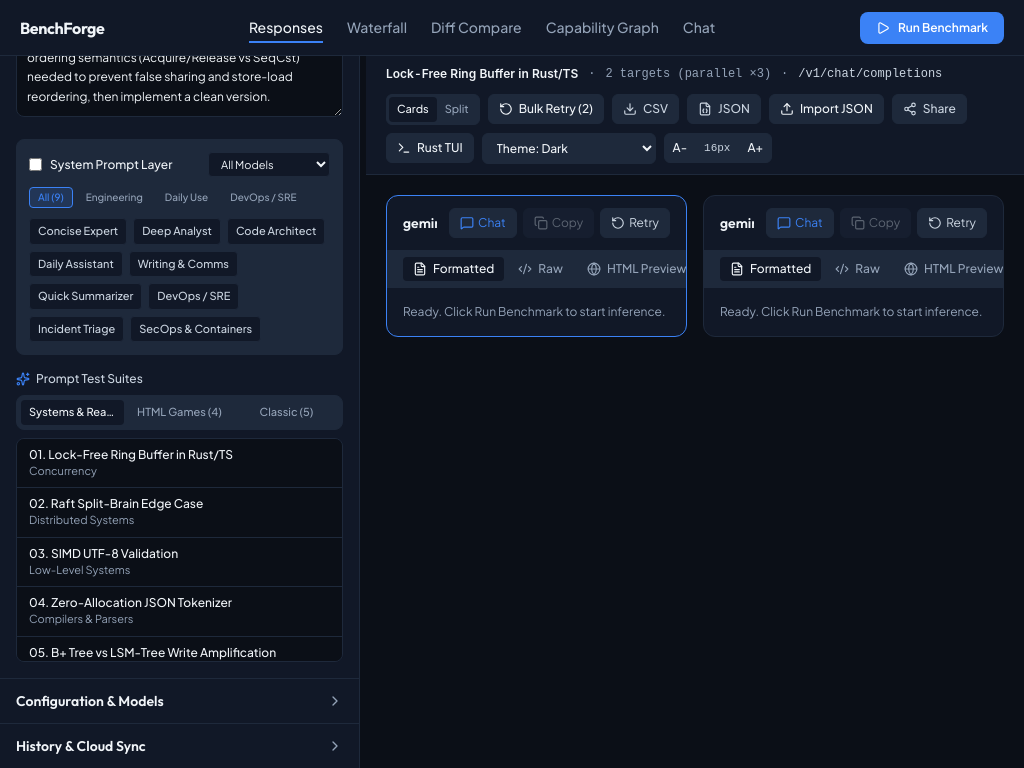
Scenario: Extended Coverage Suite (50+ Target) › expands History & Cloud Sync section and shows Sync Log Monitor
The image size is (1024, 768).
(page scrolled)
Click the button "History & Cloud Sync" at (81, 746), box [0,724,359,767]
(page scrolled)
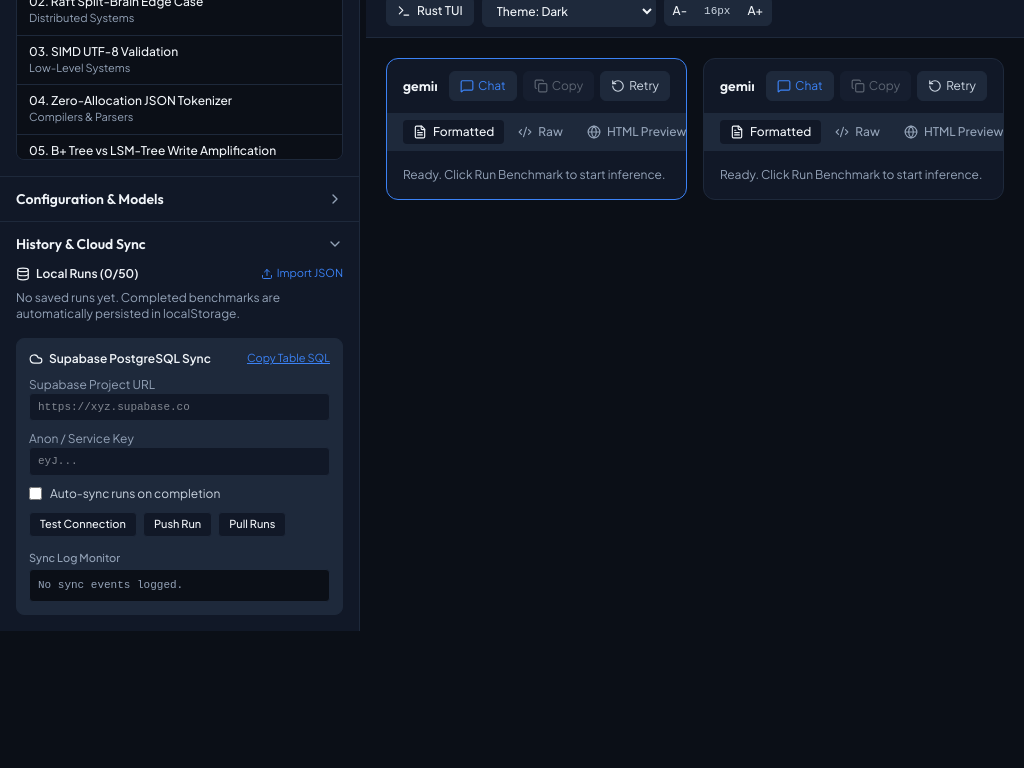
Expected: the text "Supabase PostgreSQL Sync" is shown, [49,351,211,367]
Expected: the text "Sync Log Monitor" is shown, [29,551,120,564]
